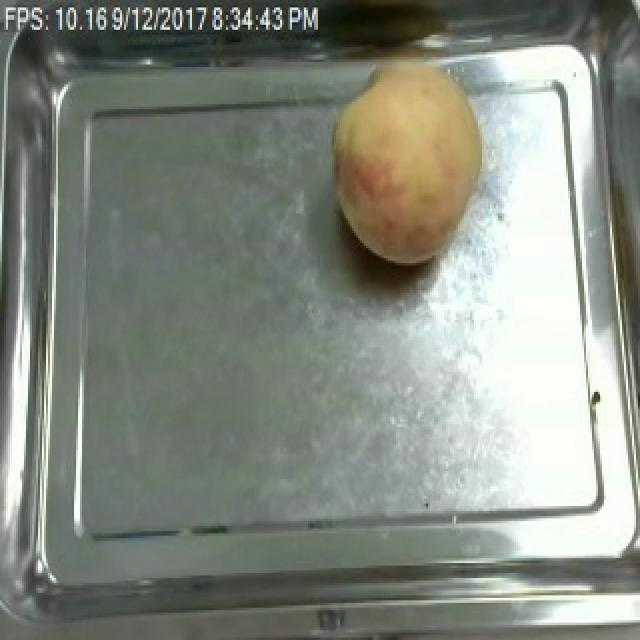Fruit: (320, 47, 498, 275)
